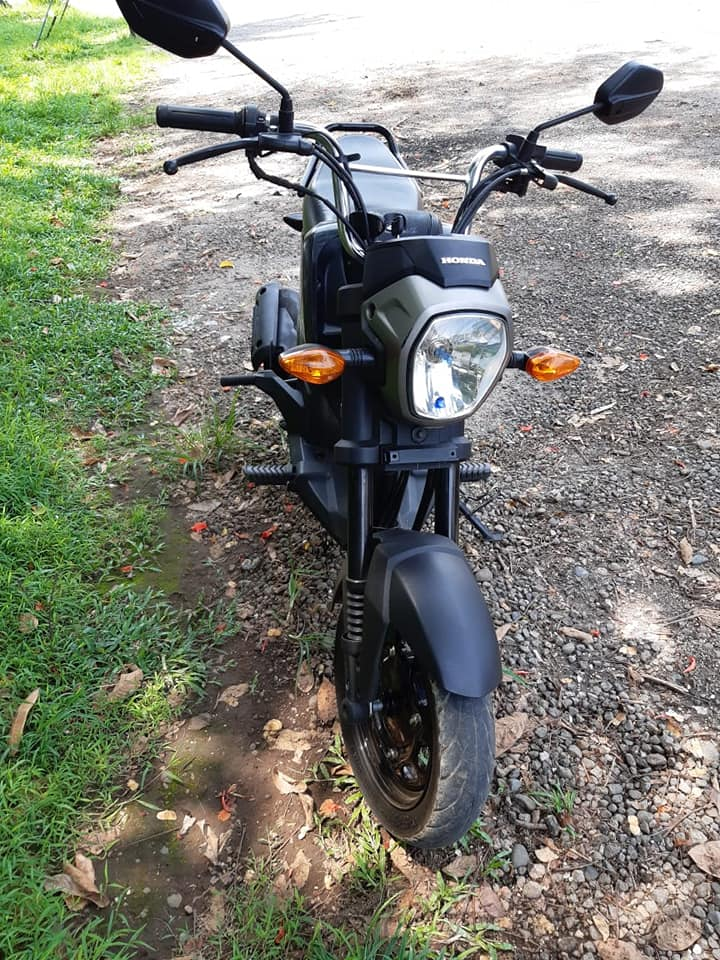moto: (102, 1, 670, 845)
